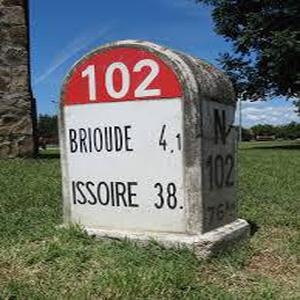kmstone: (57, 34, 232, 246)
